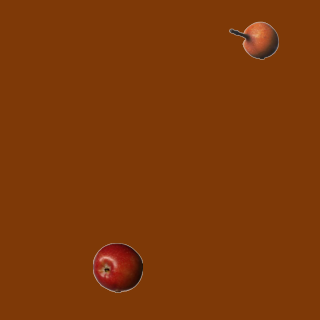Apple Braeburn: (92, 242, 142, 292)
Granadilla: (228, 15, 278, 65)
